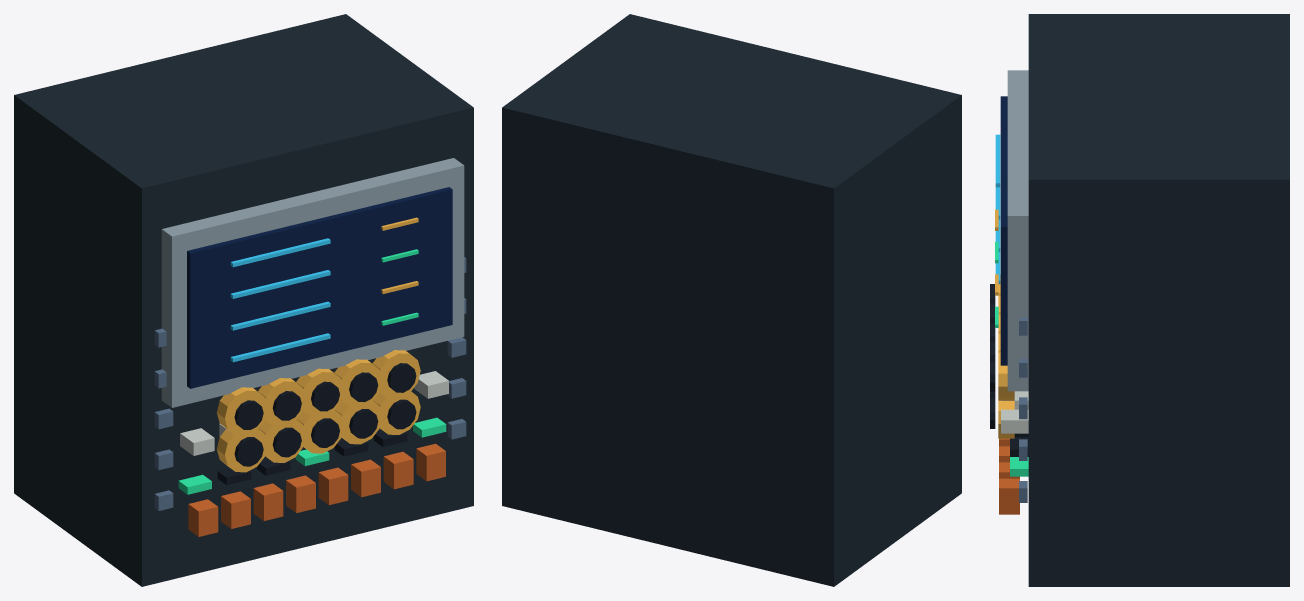
The model's file is 69_L84_IntegratedADCSPLCRack.fbx.
3 renders of one model, left to right at view 1: azimuth 30°, elevation 25°; view 2: azimuth 150°, elevation 25°; view 3: azimuth 270°, elevation 25°, orthographic. The views are drawn at different scales.
Visible parts, largest first — view 1: L84_IntegratedADCSPLCRack, L84_IntegratedADCSPLCRack_Part_0020, L84_IntegratedADCSPLCRack_Part_0010, L84_IntegratedADCSPLCRack_Part_0022, L84_IntegratedADCSPLCRack_Part_0026, L84_IntegratedADCSPLCRack_Part_0028, L84_IntegratedADCSPLCRack_Part_0024, L84_IntegratedADCSPLCRack_Part_0018, L84_IntegratedADCSPLCRack_Part_0012, L84_IntegratedADCSPLCRack_Part_0014, L84_IntegratedADCSPLCRack_Part_0016, L84_IntegratedADCSPLCRack_Part_0019 (+9 smaller); view 2: L84_IntegratedADCSPLCRack; view 3: L84_IntegratedADCSPLCRack, L84_IntegratedADCSPLCRack_Part_0028.
Boxes of the visible parts, x1=… form: L84_IntegratedADCSPLCRack: x1=14, y1=14, x2=473, y2=586; L84_IntegratedADCSPLCRack_Part_0020: x1=216, y1=387, x2=267, y2=435; L84_IntegratedADCSPLCRack_Part_0010: x1=217, y1=427, x2=267, y2=472; L84_IntegratedADCSPLCRack_Part_0022: x1=258, y1=378, x2=305, y2=426; L84_IntegratedADCSPLCRack_Part_0026: x1=334, y1=359, x2=381, y2=407; L84_IntegratedADCSPLCRack_Part_0028: x1=372, y1=350, x2=420, y2=398; L84_IntegratedADCSPLCRack_Part_0024: x1=296, y1=368, x2=344, y2=415; L84_IntegratedADCSPLCRack_Part_0018: x1=373, y1=390, x2=420, y2=434; L84_IntegratedADCSPLCRack_Part_0012: x1=258, y1=418, x2=305, y2=462; L84_IntegratedADCSPLCRack_Part_0014: x1=297, y1=409, x2=344, y2=453; L84_IntegratedADCSPLCRack_Part_0016: x1=335, y1=399, x2=381, y2=444; L84_IntegratedADCSPLCRack_Part_0019: x1=387, y1=399, x2=416, y2=429; L84_IntegratedADCSPLCRack: x1=502, y1=14, x2=961, y2=586; L84_IntegratedADCSPLCRack: x1=995, y1=14, x2=1289, y2=586; L84_IntegratedADCSPLCRack_Part_0028: x1=998, y1=350, x2=1014, y2=400.
Bounding box in the file's own units: 99.96 × 115 × 76.52.
